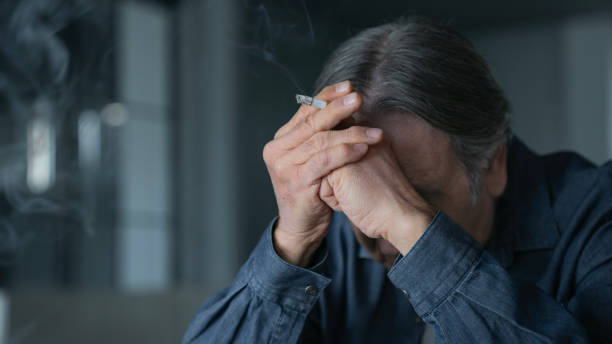cigarette: (294, 92, 332, 110)
